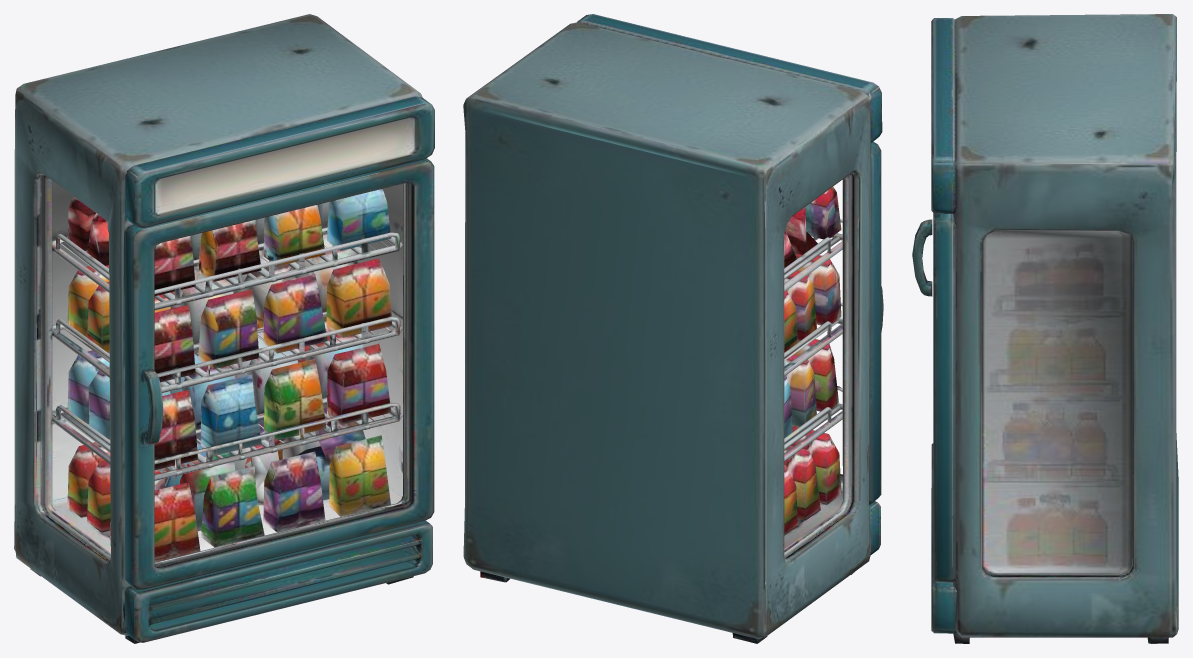
File: fridge.glb
3 renders of one model, left to right at view 1: azimuth 30°, elevation 25°; view 2: azimuth 150°, elevation 25°; view 3: azimuth 270°, elevation 25°, orthographic.
Visible parts, largest first — view 1: fridge; view 2: fridge; view 3: fridge.
Part boxes in pixels (<box>): fridge: <box>14,14,434,643</box>; fridge: <box>463,14,883,643</box>; fridge: <box>912,14,1178,643</box>.
Bounding box in the file's own units: 0.94 × 1.42 × 0.7.
1 material, 1 textured.
